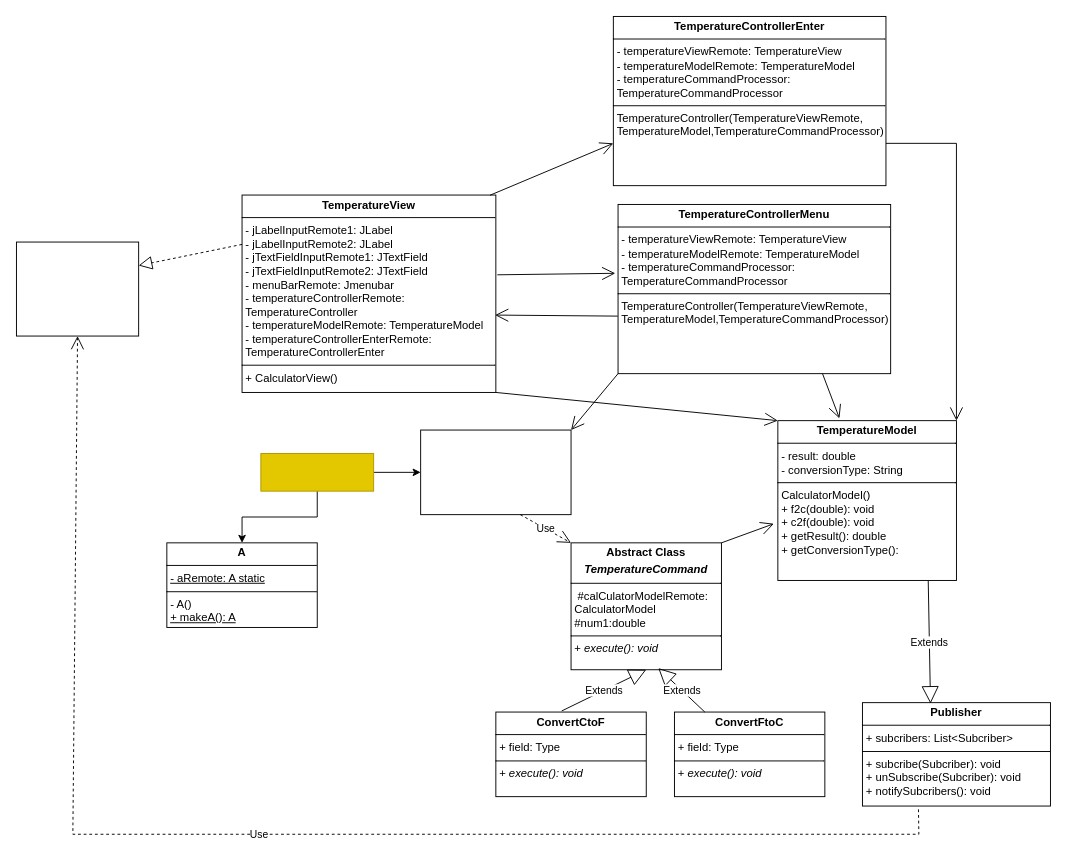
This 1067x864 diagram has some shape labels left out. Here are the shapes that lost their labels. From the top down, the box of each, then its label:
(16, 241, 139, 336): <<Interface>> Subcriber + + update(): void +
(260, 453, 374, 491): singleton pattern
(420, 429, 571, 515): TempCommandProcessor + field: Type + execute(Command): void
